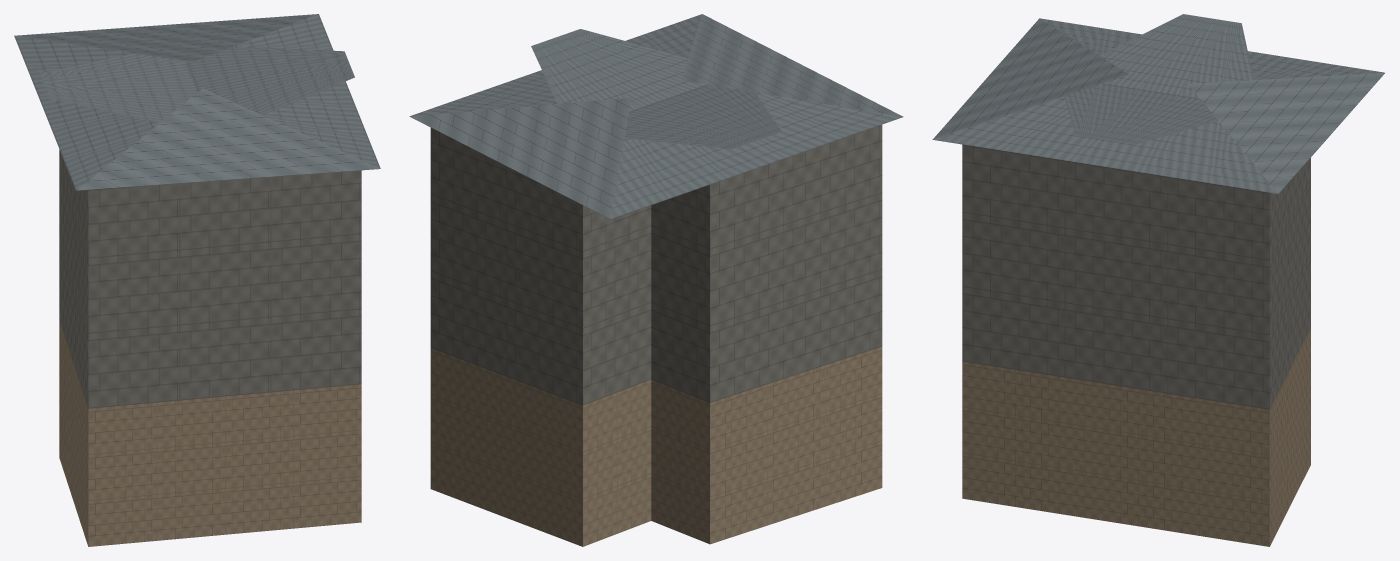
Rendered from bld_c1_10_490.gltf.
3 views of the same model, side by side, from view 1: azimuth 30°, elevation 25°; view 2: azimuth 150°, elevation 25°; view 3: azimuth 270°, elevation 25° (orthographic). The views are drawn at different scales.
Visible parts, largest first — view 1: bld_c1_10_490; view 2: bld_c1_10_490; view 3: bld_c1_10_490.
Boxes of the visible parts, x1=… form: bld_c1_10_490: x1=14, y1=14, x2=380, y2=546; bld_c1_10_490: x1=409, y1=14, x2=903, y2=546; bld_c1_10_490: x1=932, y1=14, x2=1384, y2=546.
Size of the model in its own units: 14.01 by 14.4 by 15.25.
3 materials, 3 textured.
